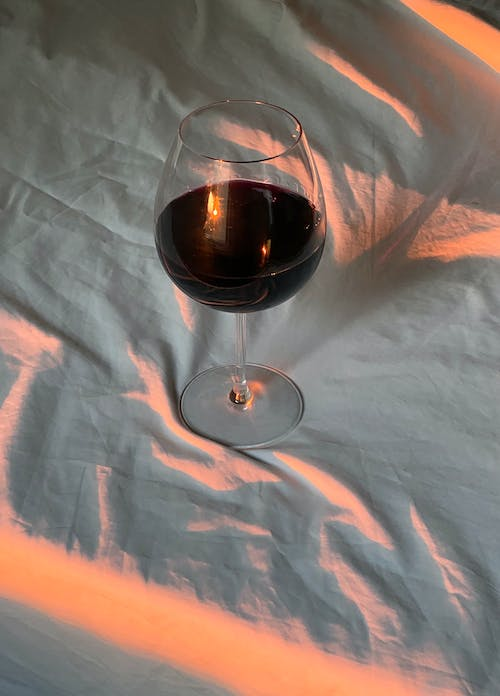alcohol: (153, 98, 327, 452)
